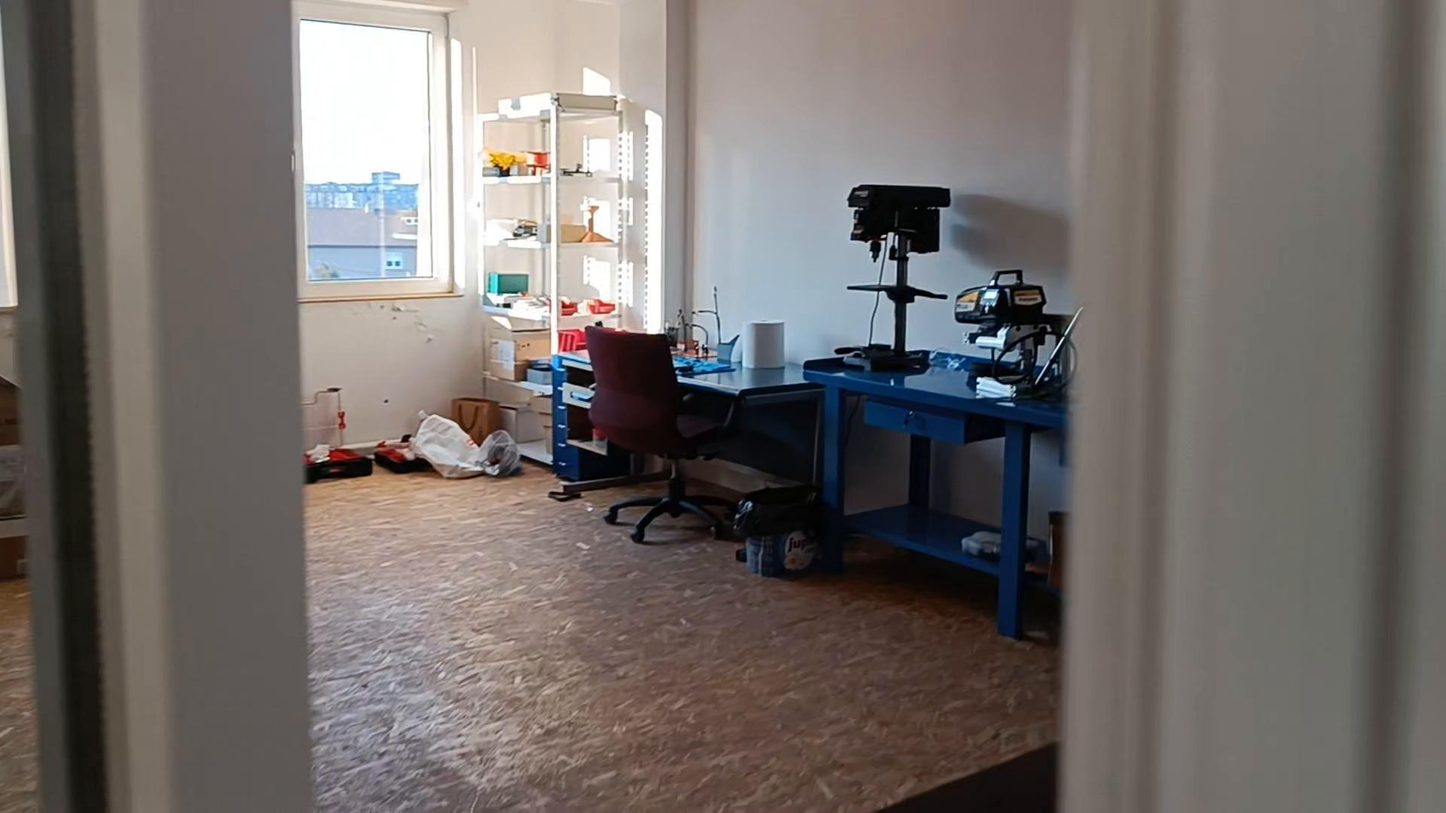floor: (307, 469, 1057, 812)
wall: (694, 11, 1071, 355), (316, 296, 474, 427), (487, 1, 670, 107)
